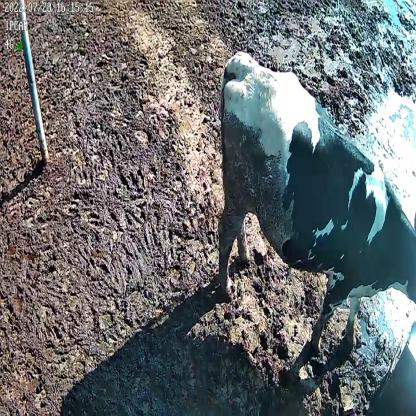cow: (216, 46, 416, 353)
